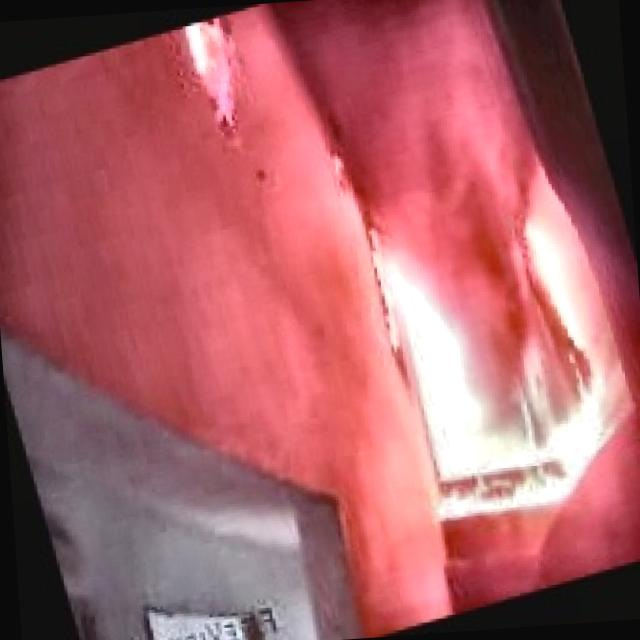fire: (346, 171, 640, 530)
